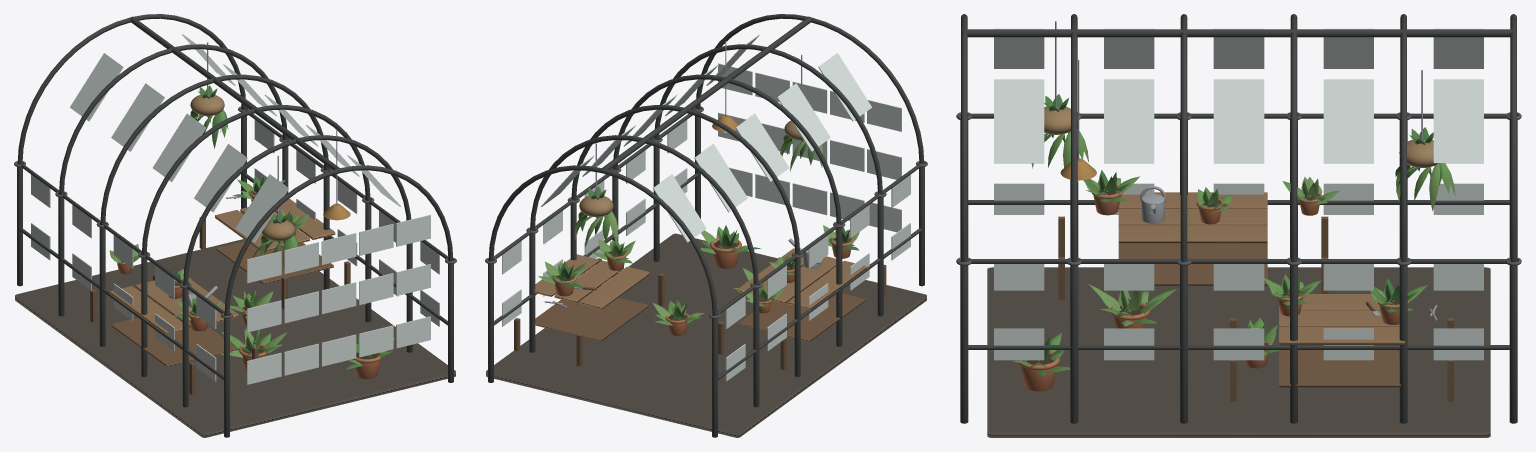
3 renders of one model, left to right at view 1: azimuth 30°, elevation 25°; view 2: azimuth 150°, elevation 25°; view 3: azimuth 270°, elevation 25°, orthographic. The views are drawn at different scales.
Parts seen in each view (by area): view 1: floor, bench_0, rails, frame_0, bench_1, frame_2, frame_3, frame_1, frame_4, frame_5, pane_22, pane_21 (+31 smaller); view 2: floor, bench_1, bench_0, rails, frame_4, frame_5, frame_1, frame_3, frame_0, frame_2, fern_7, pane_22 (+27 smaller); view 3: floor, rails, bench_0, bench_1, pane_27, pane_25, pane_26, pane_28, pane_29, frame_0, frame_5, frame_4 (+35 smaller).
Boxes of the visible parts, <box> form: floor: <box>15,239,455,437</box>; bench_0: <box>90,274,258,395</box>; rails: <box>19,16,448,379</box>; frame_0: <box>221,165,456,437</box>; bench_1: <box>199,198,350,309</box>; frame_2: <box>138,105,374,376</box>; frame_3: <box>96,74,332,346</box>; frame_1: <box>179,135,412,407</box>; frame_4: <box>55,44,290,316</box>; frame_5: <box>14,14,249,286</box>; pane_22: <box>152,113,206,181</box>; pane_21: <box>194,144,247,212</box>; floor: <box>486,233,926,437</box>; bench_1: <box>514,254,664,366</box>; bench_0: <box>718,248,886,369</box>; rails: <box>493,16,922,379</box>; frame_4: <box>526,135,762,407</box>; frame_5: <box>485,165,720,437</box>; frame_1: <box>651,44,886,316</box>; frame_3: <box>567,105,803,376</box>; frame_0: <box>692,14,927,286</box>; frame_2: <box>609,74,845,346</box>; fern_7: <box>574,143,617,247</box>; pane_22: <box>735,113,789,181</box>; floor: <box>987,267,1490,437</box>; rails: <box>964,29,1513,349</box>; bench_0: <box>1058,192,1328,299</box>; bench_1: <box>1230,294,1453,401</box>; pane_27: <box>1213,79,1264,163</box>; pane_25: <box>994,79,1044,163</box>; pane_26: <box>1104,79,1154,163</box>; pane_28: <box>1323,79,1373,163</box>; pane_29: <box>1433,79,1483,163</box>; frame_0: <box>956,14,971,423</box>; frame_5: <box>1506,14,1521,423</box>; frame_4: <box>1396,14,1411,423</box>.
Bounding box in the file's own units: 3.4 × 3.14 × 4.94.
